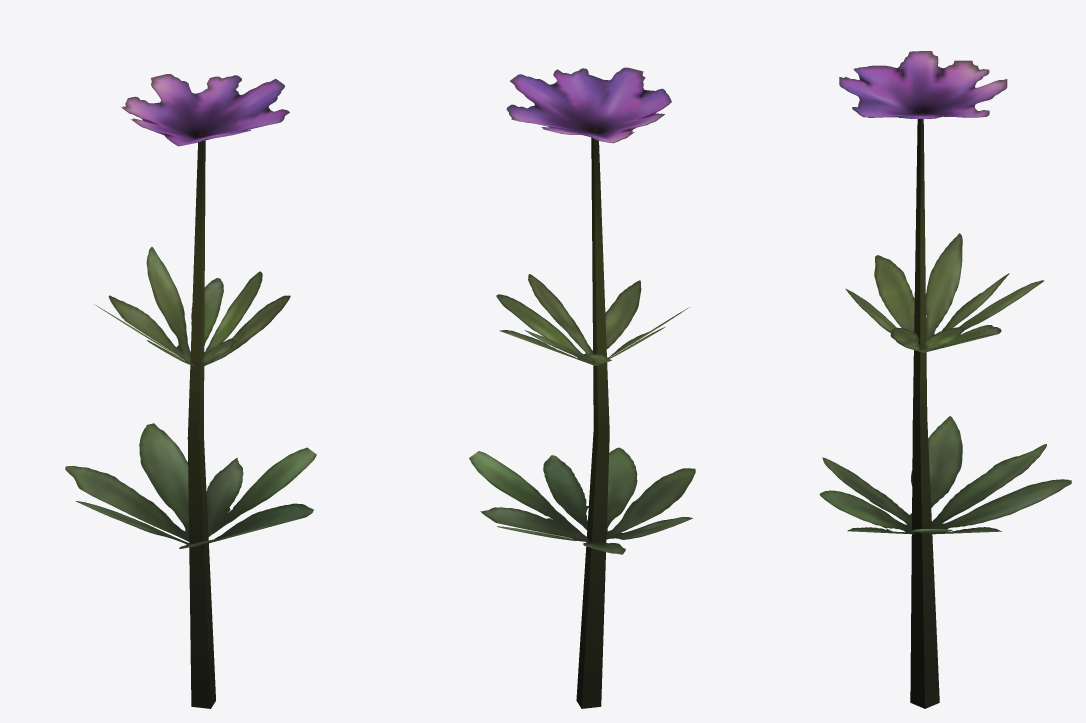
Rendered from flower_s05.fbx.
The picture shows the model from 3 angles, left to right: view 1: azimuth 30°, elevation 25°; view 2: azimuth 150°, elevation 25°; view 3: azimuth 270°, elevation 25°; orthographic projection. The views are drawn at different scales.
Parts seen in each view (by area): view 1: flower_s05; view 2: flower_s05; view 3: flower_s05.
Boxes of the visible parts, left/top/right/bottom form: flower_s05: left=65, top=74, right=316, bottom=708; flower_s05: left=469, top=67, right=695, bottom=708; flower_s05: left=819, top=51, right=1071, bottom=708.
Bounding box in the file's own units: 13.53 × 34.7 × 13.53.
